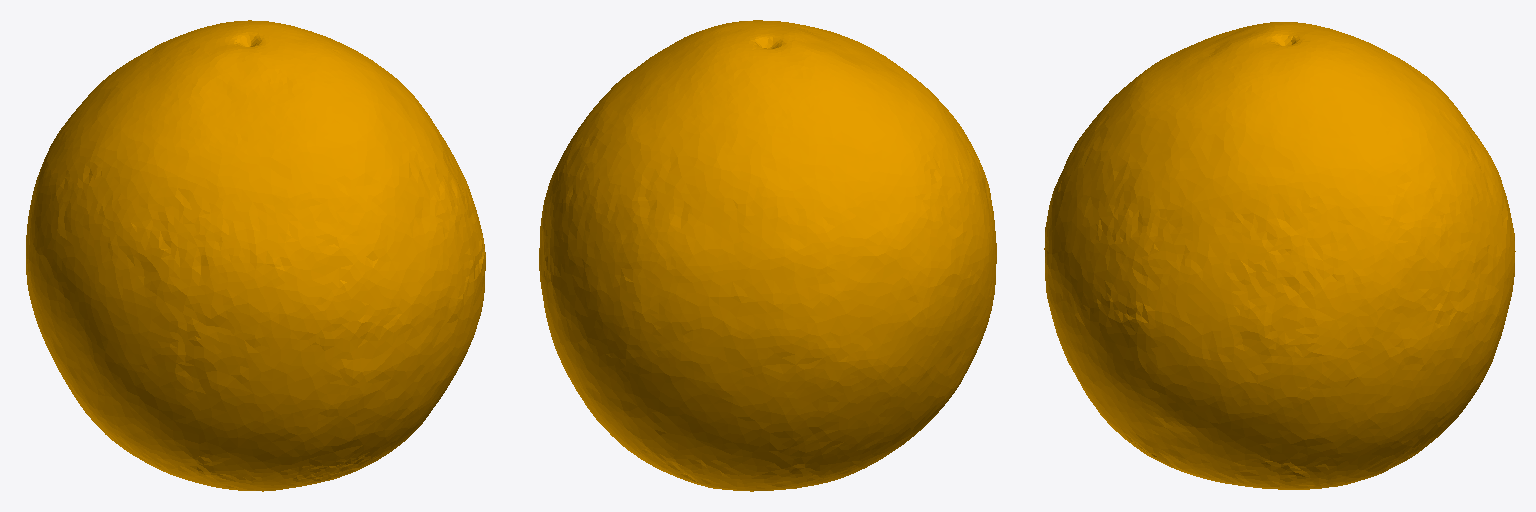
robot.urdf — 017_orange:
<?xml version="1.0" ?>
<robot name="017_orange">
  <link name="base_link">
    <inertial>
      <mass value="0.020328069223579923"/>
      <origin rpy="-2.03442  0.33817  2.97475" xyz="-0.00713 -0.01837  0.03356"/>
      <inertia ixx="1.102282729730333e-05" ixy="1.3855528597831755e-21" ixz="-2.3105660271380833e-21" iyy="1.0764750175787626e-05" iyz="-5.499066249782335e-21" izz="1.0710795374104934e-05"/>
    </inertial>
    <collision name="017_orange__collision">
      <origin rpy="0 0 0" xyz="0 0 0"/>
      <geometry>
        <mesh filename="./017_orange_250_collision.stl" scale="1.0 1.0 1.0"/>
      </geometry>
    </collision>
    <visual name="017_orange__visual">
      <origin rpy="0 0 0" xyz="0 0 0"/>
      <geometry>
        <mesh filename="./textured.obj" scale="1.0 1.0 1.0"/>
      </geometry>
    </visual>
  </link>
</robot>

--- What the picture shows (computed from the rendered views, not written in the file) ---
The picture shows the robot from 3 angles, left to right: view 1: azimuth 30°, elevation 25°; view 2: azimuth 150°, elevation 25°; view 3: azimuth 270°, elevation 25°; orthographic projection.
Model 017_orange with 1 links and 0 joints (none), rooted at base_link, posed all joints at 0.
Links seen in each view (by area): view 1: base_link; view 2: base_link; view 3: base_link.
Link boxes in pixels (x1,y1,x2,y2): base_link: (26,20,485,491); base_link: (539,20,996,491); base_link: (1044,22,1515,489).
Bounding box of the posed robot: 0.0722 × 0.074 × 0.0714 m (x, y, z).
1 mesh visuals loaded from 1 distinct referenced files (1 OBJ).